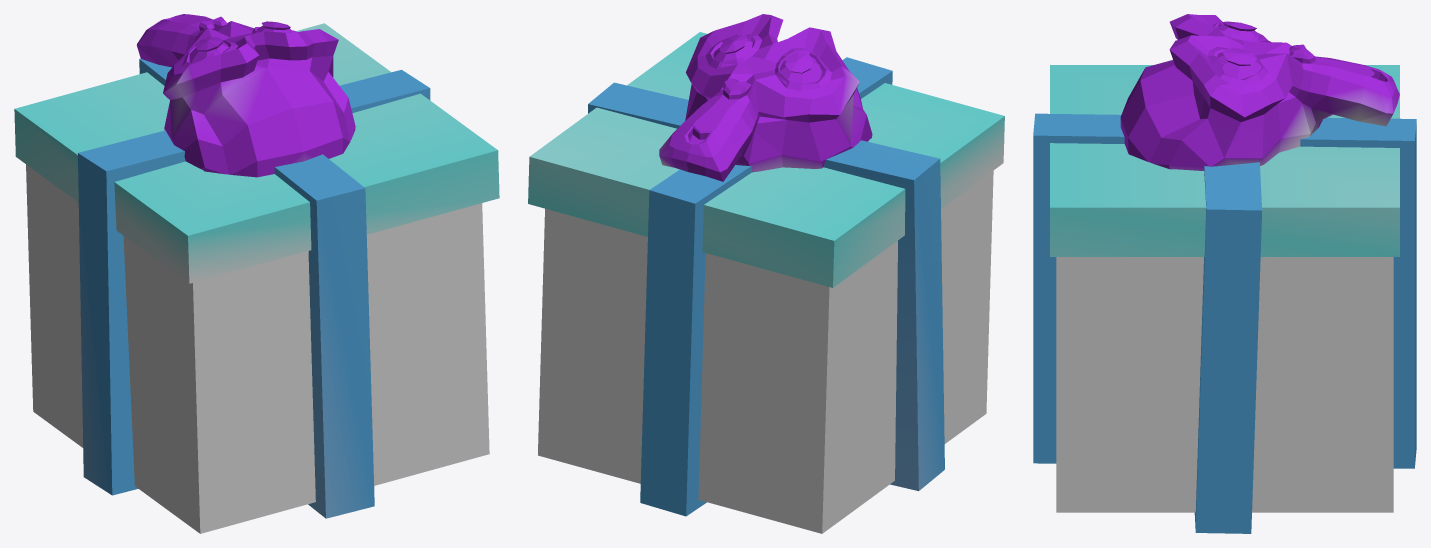
The model's file is present2.fbx.
The picture shows the model from 3 angles, left to right: view 1: azimuth 30°, elevation 25°; view 2: azimuth 150°, elevation 25°; view 3: azimuth 270°, elevation 25°; orthographic projection. The views are drawn at different scales.
Visible parts, largest first — view 1: Cube.003; view 2: Cube.003; view 3: Cube.003.
Part boxes in pixels (x1,y1,x2,y2): Cube.003: (14,14,499,533); Cube.003: (528,14,1004,533); Cube.003: (1033,14,1416,533).
Size of the model in its own units: 228 by 278 by 228.
